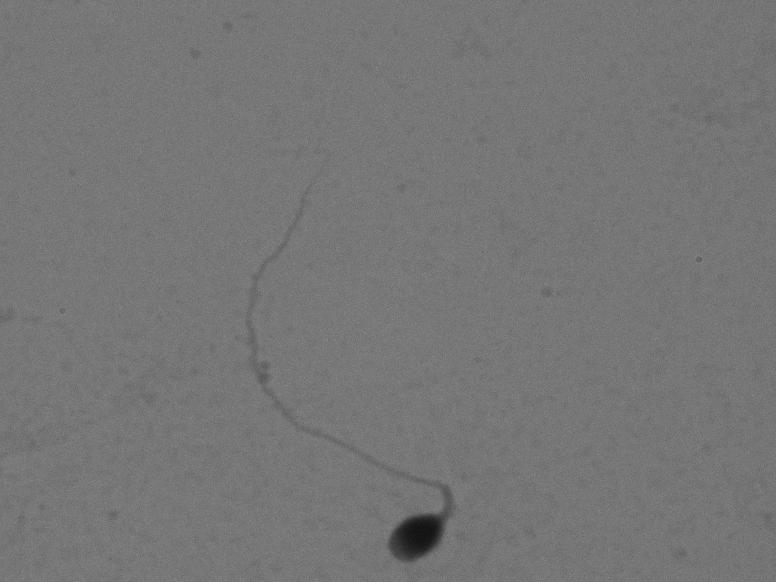Normal: (200, 156, 547, 570)
